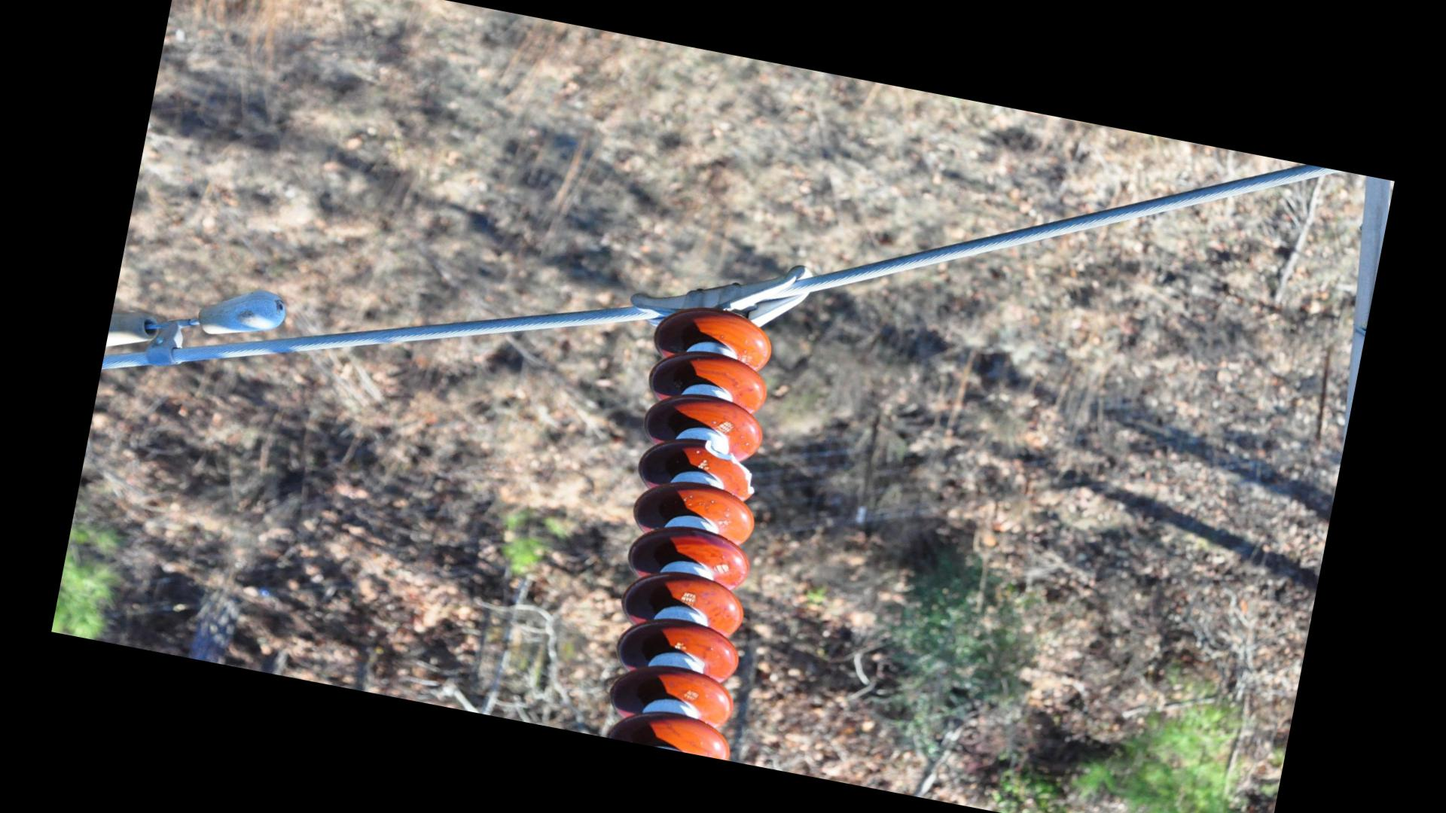damper: (101, 257, 297, 406)
